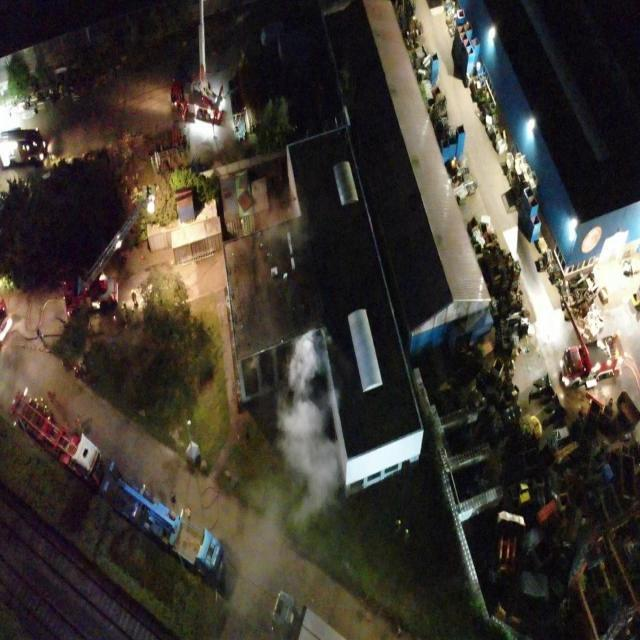Smoke: (237, 328, 346, 612)
